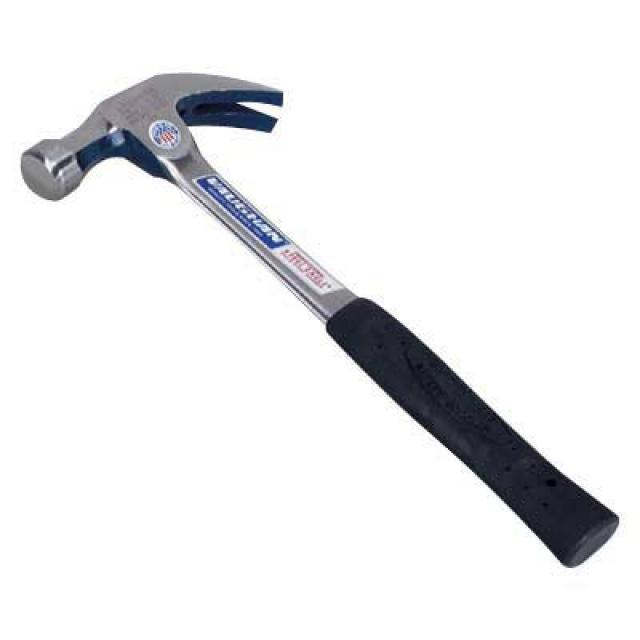hammer: (12, 65, 626, 573)
